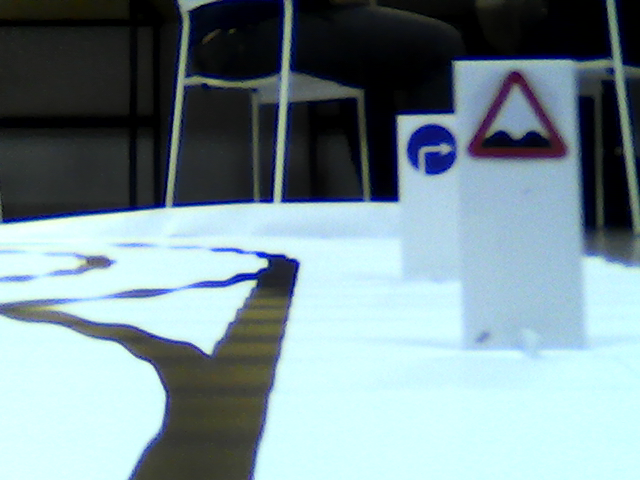Nerov: (463, 69, 569, 162)
Right: (406, 121, 457, 172)
